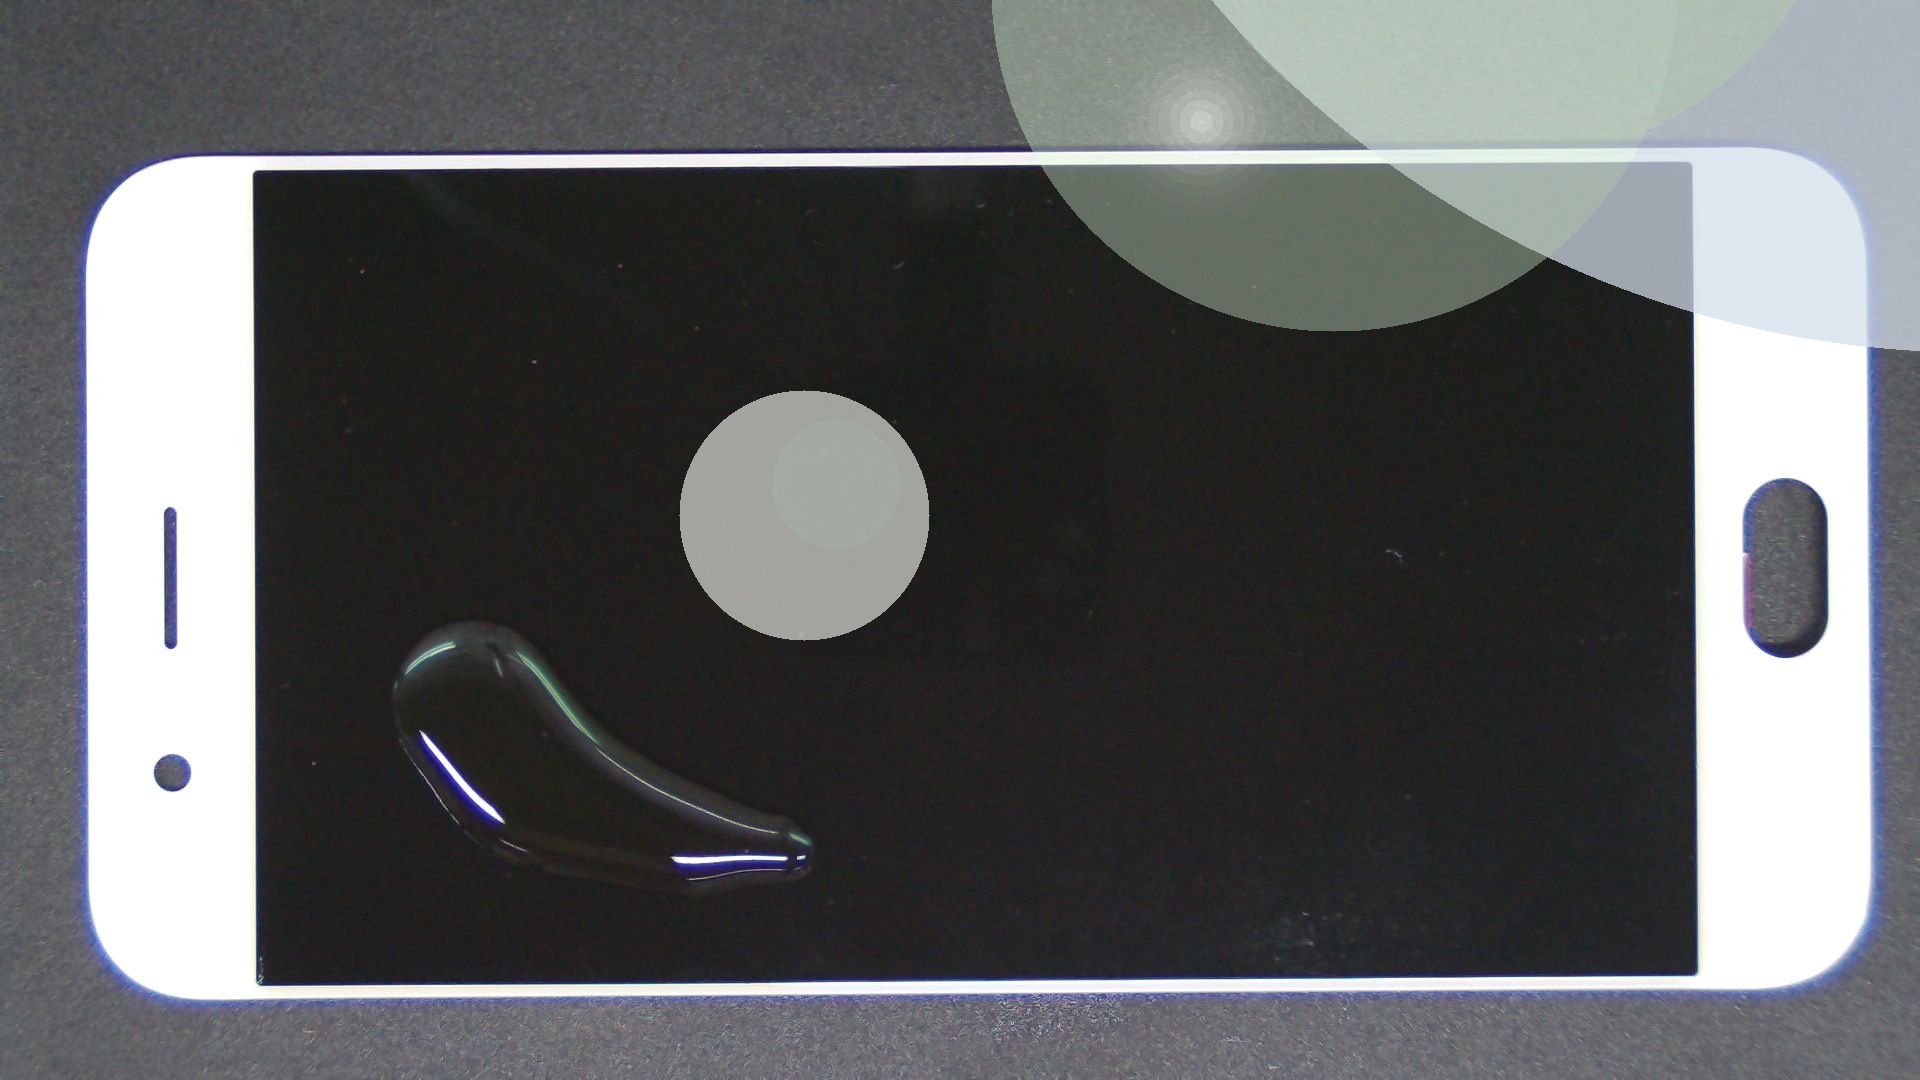oil: (237, 310, 709, 931)
